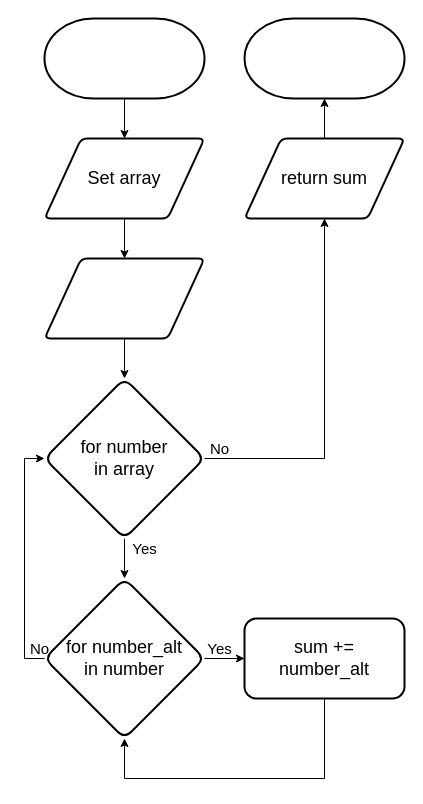
The diagram is 423 pixels wide and 804 high, and some of its shapes have lost their labels. The shapes that lost their labels are listed below. From the top down, each one's box as (x1, y1, x2, y2) in pixels, then its label:
(43, 17, 205, 99): Start
(243, 17, 405, 99): Stop
(43, 257, 205, 339): Set sum to 0
